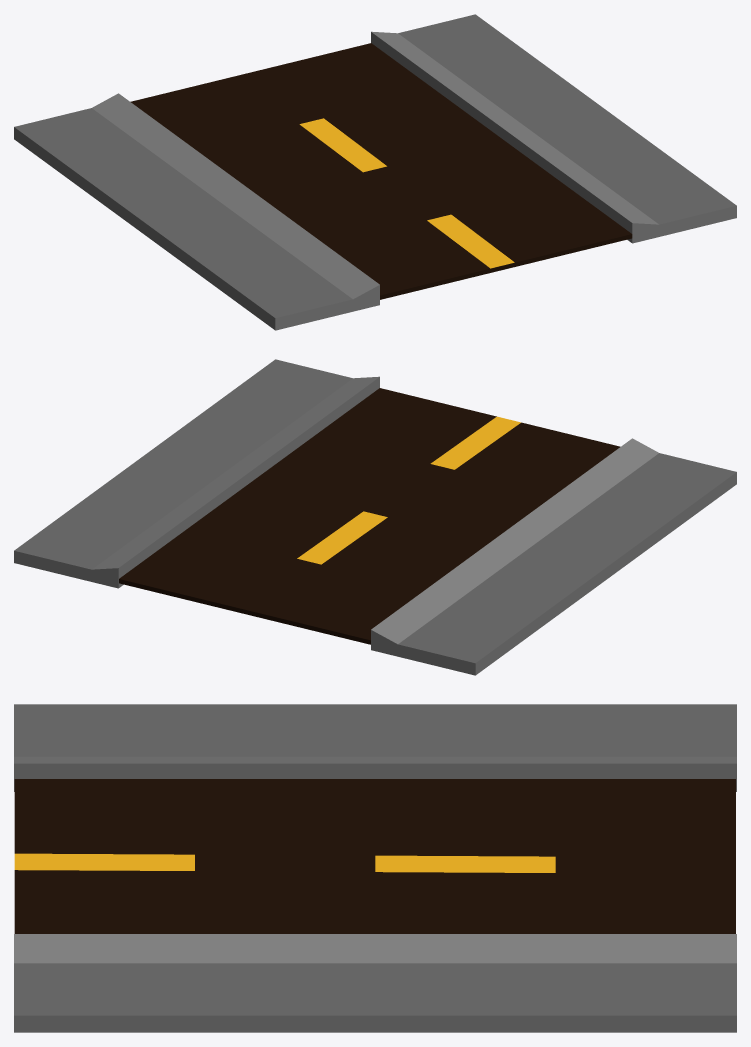
File: ting.fbx
3 renders of one model, top to bottom at view 1: azimuth 30°, elevation 25°; view 2: azimuth 150°, elevation 25°; view 3: azimuth 270°, elevation 25°, orthographic. The views are drawn at different scales.
Parts seen in each view (by area): view 1: 立方体, 立方体.001, 立方体.002; view 2: 立方体, 立方体.001, 立方体.002; view 3: 立方体, 立方体.002, 立方体.001.
Boxes of the visible parts, x1,y1,x2,y2 form: 立方体: (130, 43, 632, 299); 立方体.001: (14, 93, 379, 330); 立方体.002: (371, 14, 736, 243); 立方体: (119, 388, 620, 644); 立方体.001: (371, 438, 736, 675); 立方体.002: (14, 359, 379, 588); 立方体: (14, 779, 735, 933); 立方体.002: (14, 934, 736, 1032); 立方体.001: (14, 704, 736, 791).
Size of the model in its own units: 17844 by 755 by 17510.
